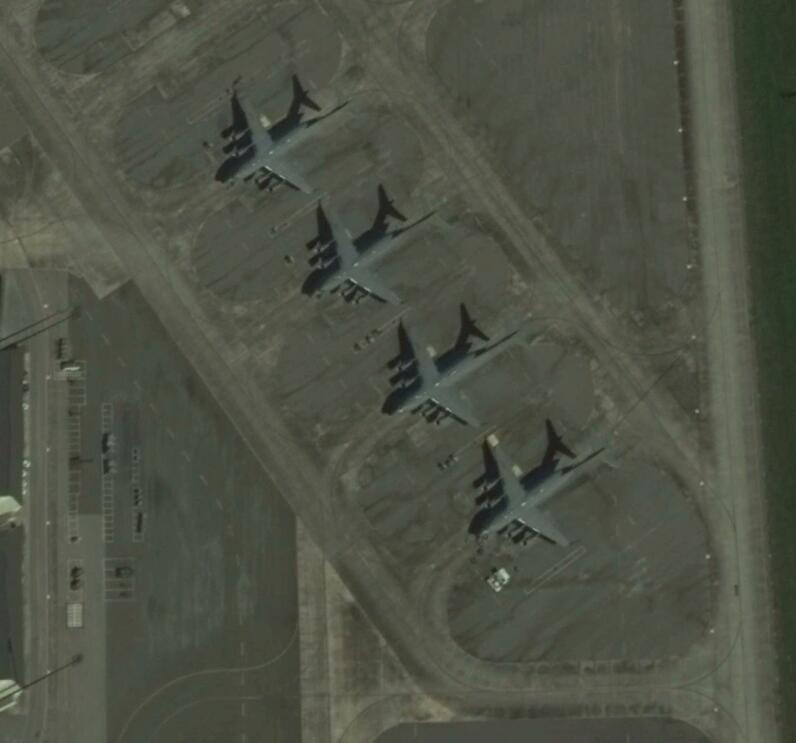A3: (468, 434, 625, 550), (300, 197, 455, 309), (384, 315, 533, 430), (214, 88, 365, 195)
